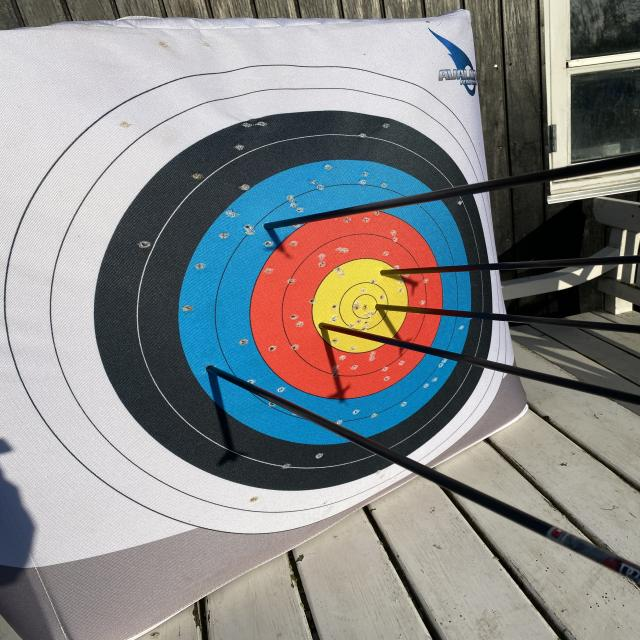Arrow_Blue: (236, 202, 295, 237), (184, 353, 237, 391)
Arrow_Yellow: (356, 250, 426, 298), (295, 312, 366, 346), (356, 290, 404, 328)
